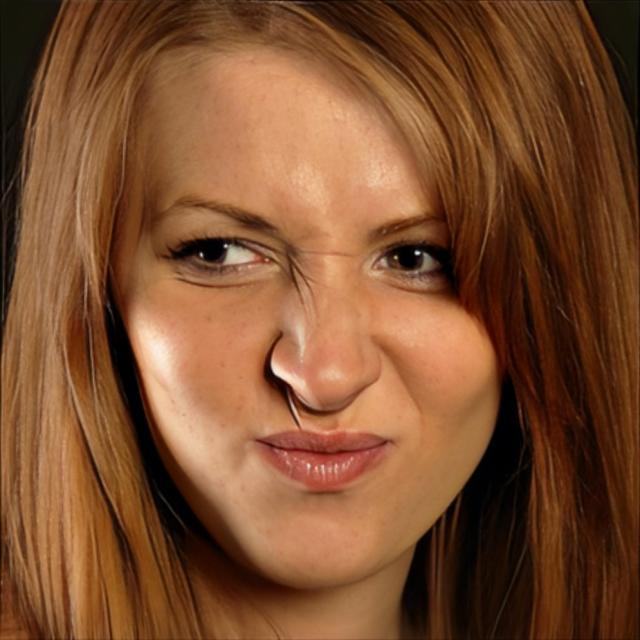disgust: (107, 26, 503, 592)
